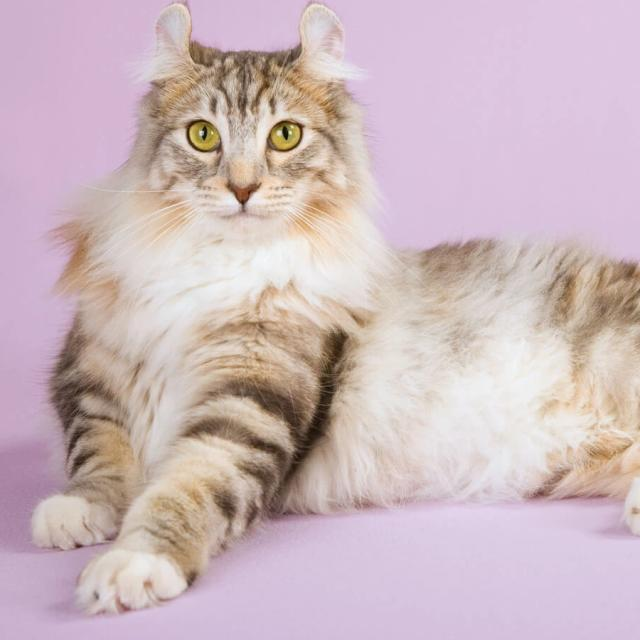American Curl: (22, 0, 640, 619)
